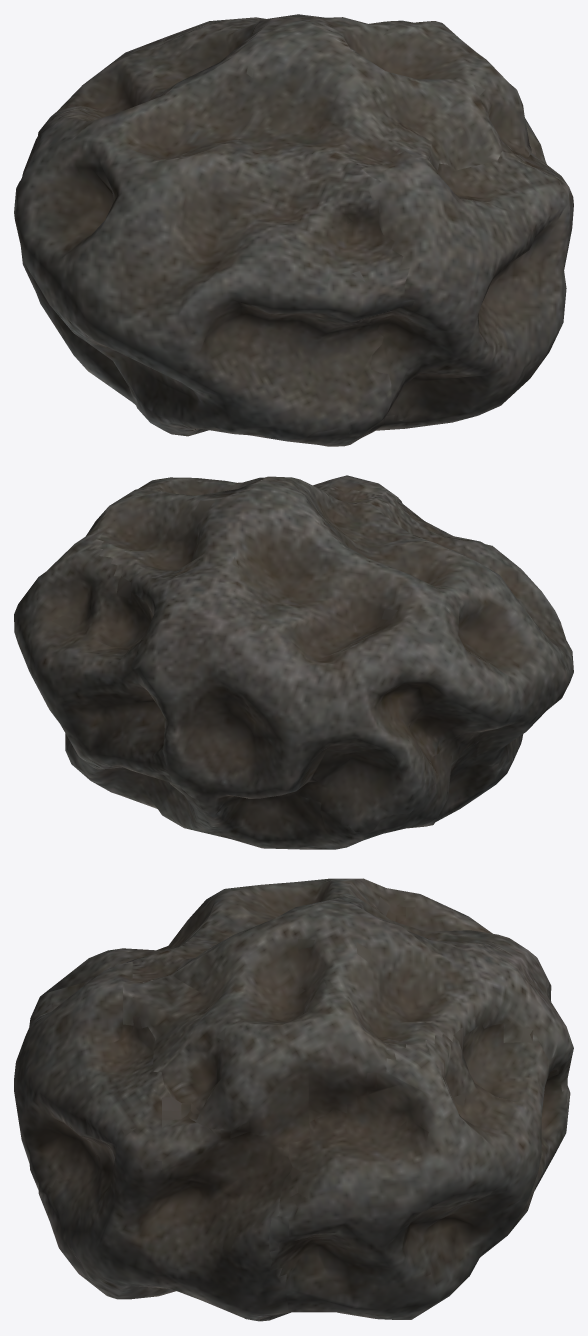
Rendered from asteroid_common_2_lod2.glb.
3 views of the same model, one above another, from view 1: azimuth 30°, elevation 25°; view 2: azimuth 150°, elevation 25°; view 3: azimuth 270°, elevation 25° (orthographic). The views are drawn at different scales.
Parts seen in each view (by area): view 1: model; view 2: model; view 3: model.
Boxes of the visible parts, left/top/right/bottom form: model: left=14, top=14, right=573, bottom=446; model: left=14, top=475, right=573, bottom=849; model: left=14, top=878, right=573, bottom=1321.
Size of the model in its own units: 1.88 by 1.26 by 1.72.
Materials: 1 (1 with a texture image).
